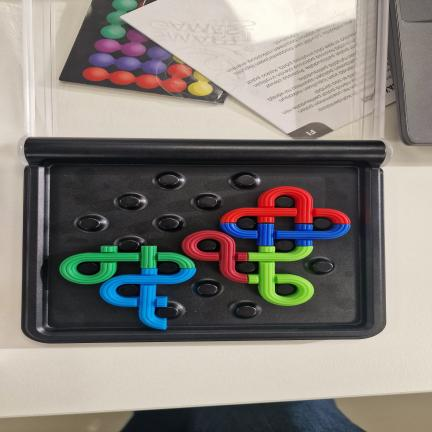B_SkyBlue: (100, 268, 195, 329)
C_DarkBlue: (221, 223, 350, 246)
D_Green: (60, 246, 195, 284)
E_Red: (221, 187, 350, 224)
J_DarkRed: (182, 231, 247, 282)
K_YellowGreen: (248, 247, 314, 305)
board: (22, 138, 385, 343)
hinge: (17, 139, 394, 165)
pin: (77, 262, 99, 275), (117, 284, 139, 297), (79, 217, 100, 230), (119, 240, 140, 252), (158, 262, 179, 274), (158, 307, 179, 319), (159, 174, 179, 186), (120, 196, 140, 208), (159, 218, 179, 230), (313, 261, 333, 273), (276, 284, 296, 296), (236, 305, 256, 317), (198, 196, 217, 208), (236, 218, 255, 230), (236, 175, 256, 186), (275, 240, 295, 251), (197, 240, 217, 251), (235, 262, 255, 273), (197, 284, 217, 295), (275, 196, 294, 207), (313, 218, 332, 229)
